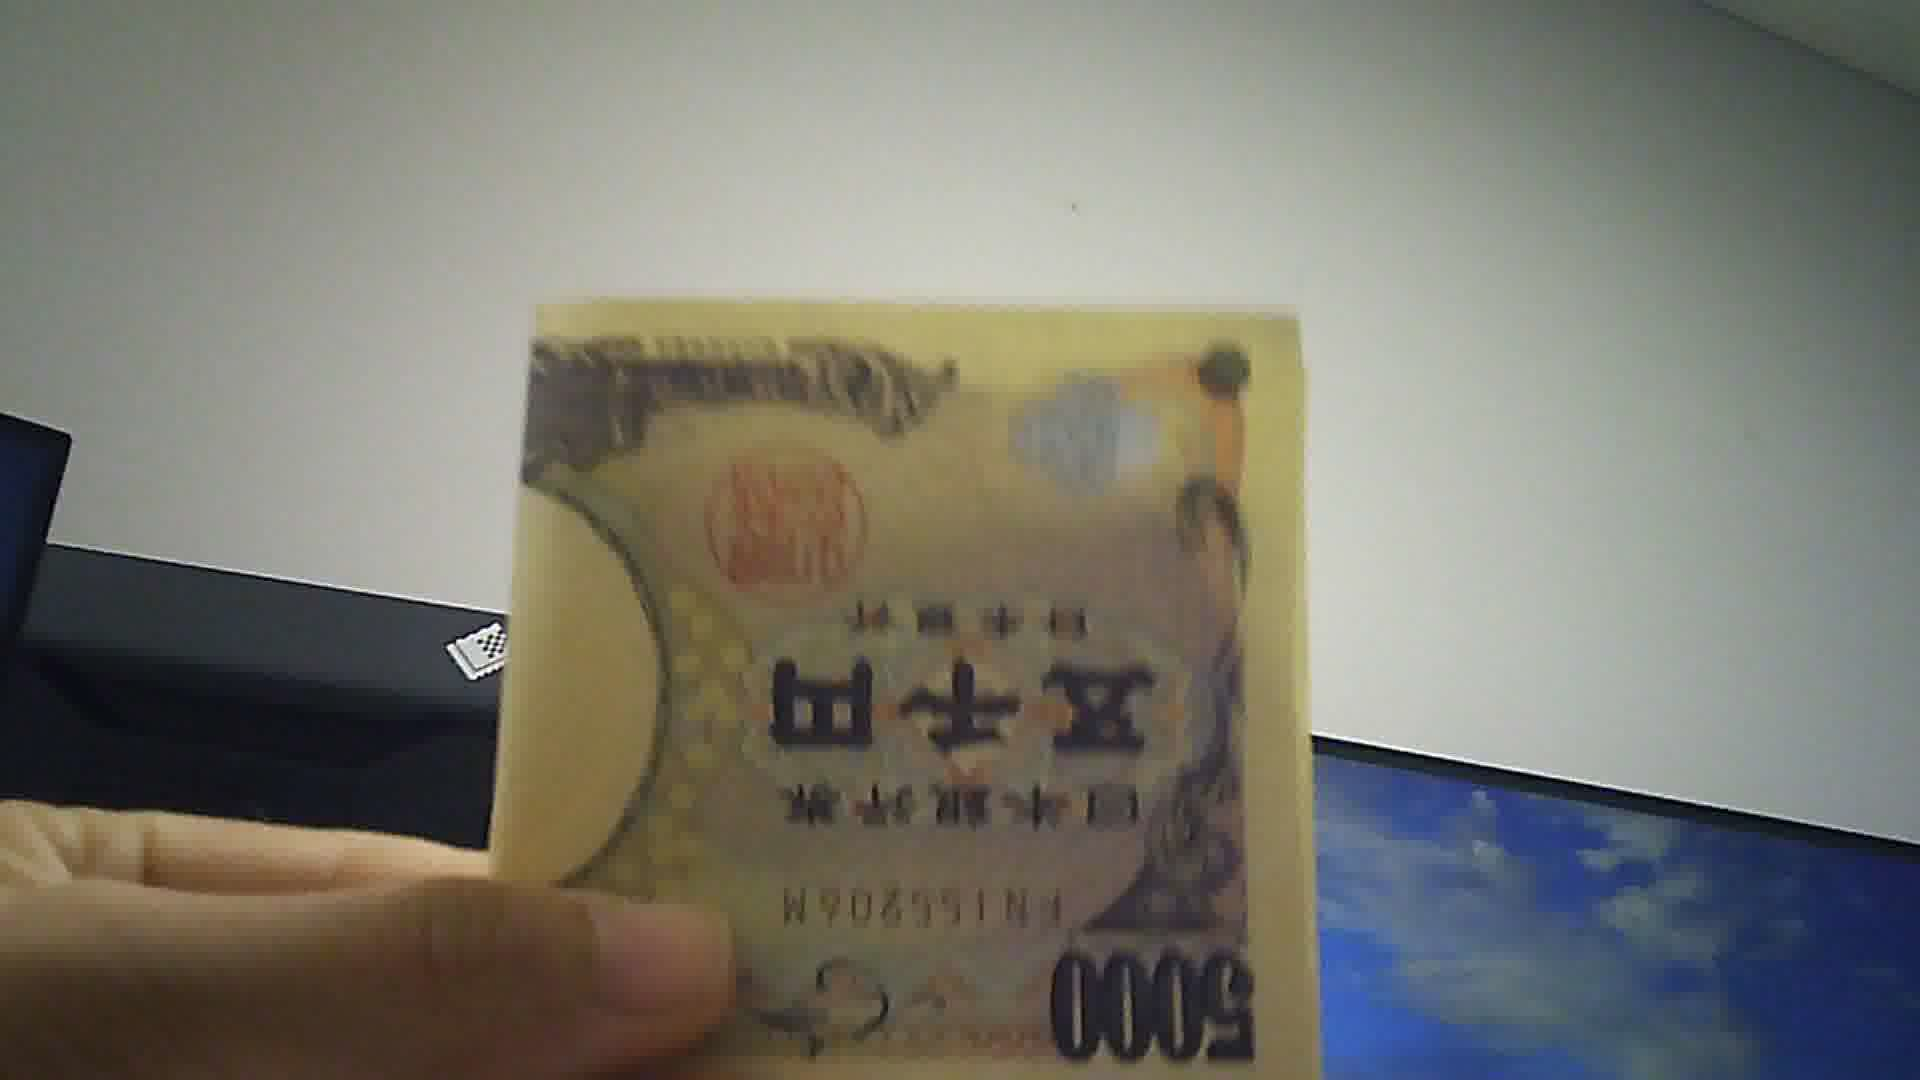5,000 Yen: (480, 273, 1329, 1077)
